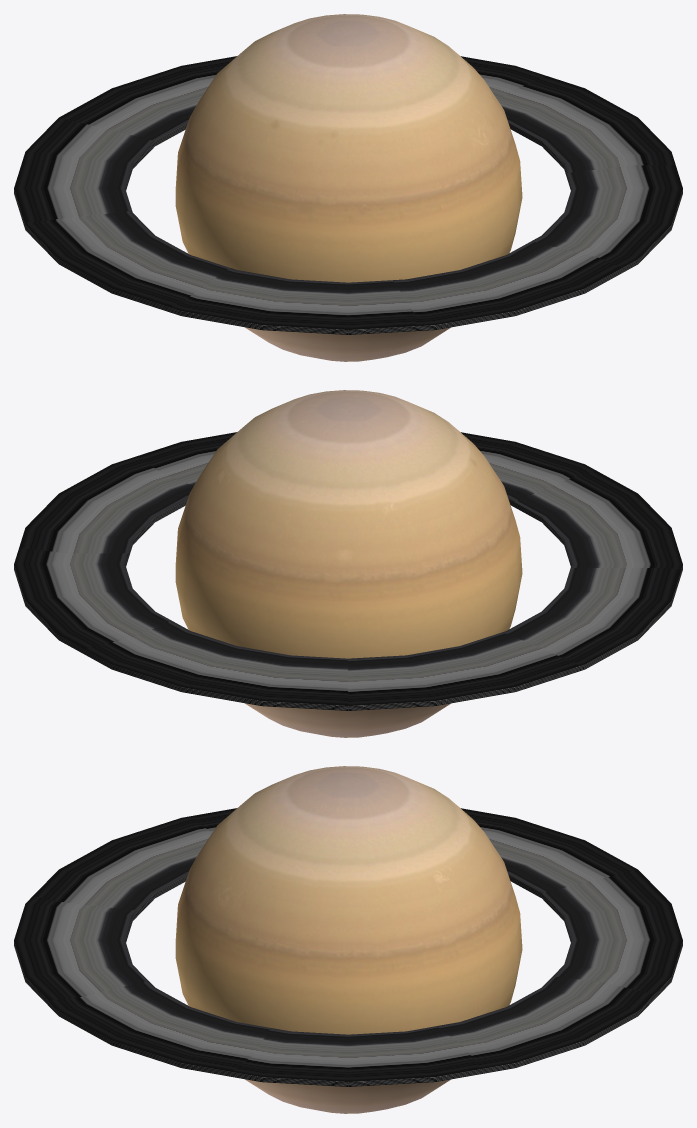
The model's file is saturn.FBX.
3 views of the same model, one above another, from view 1: azimuth 30°, elevation 25°; view 2: azimuth 150°, elevation 25°; view 3: azimuth 270°, elevation 25° (orthographic).
Parts seen in each view (by area): view 1: Sun, Tube001; view 2: Sun, Tube001; view 3: Sun, Tube001.
Part boxes in pixels (x1,y1,x2,y2): Sun: [175, 14, 522, 361]; Tube001: [14, 56, 682, 334]; Sun: [175, 390, 522, 737]; Tube001: [14, 432, 682, 710]; Sun: [175, 766, 522, 1113]; Tube001: [14, 808, 682, 1086].
Bounding box in the file's own units: 21.31 × 11.11 × 21.31.
2 materials, 2 textured.
